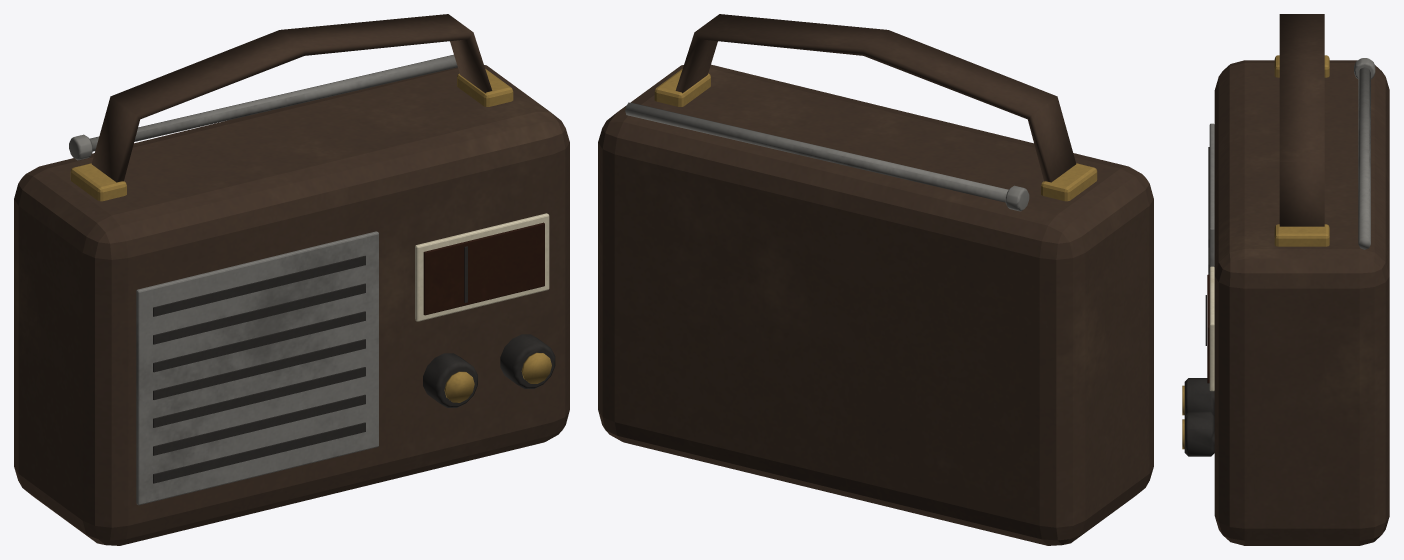
Rendered from prop_old_radio_01.gltf.
The picture shows the model from 3 angles, left to right: view 1: azimuth 30°, elevation 25°; view 2: azimuth 150°, elevation 25°; view 3: azimuth 270°, elevation 25°; orthographic projection. The views are drawn at different scales.
Visible parts, largest first — view 1: prop_old_radio_01_item_atlas_01; view 2: prop_old_radio_01_item_atlas_01; view 3: prop_old_radio_01_item_atlas_01.
Part boxes in pixels (x1,y1,x2,y2): prop_old_radio_01_item_atlas_01: (14,14,569,545); prop_old_radio_01_item_atlas_01: (598,14,1153,545); prop_old_radio_01_item_atlas_01: (1182,14,1389,545).
Bounding box in the file's own units: 0.2 × 0.17 × 0.083.
1 material, 1 textured.
